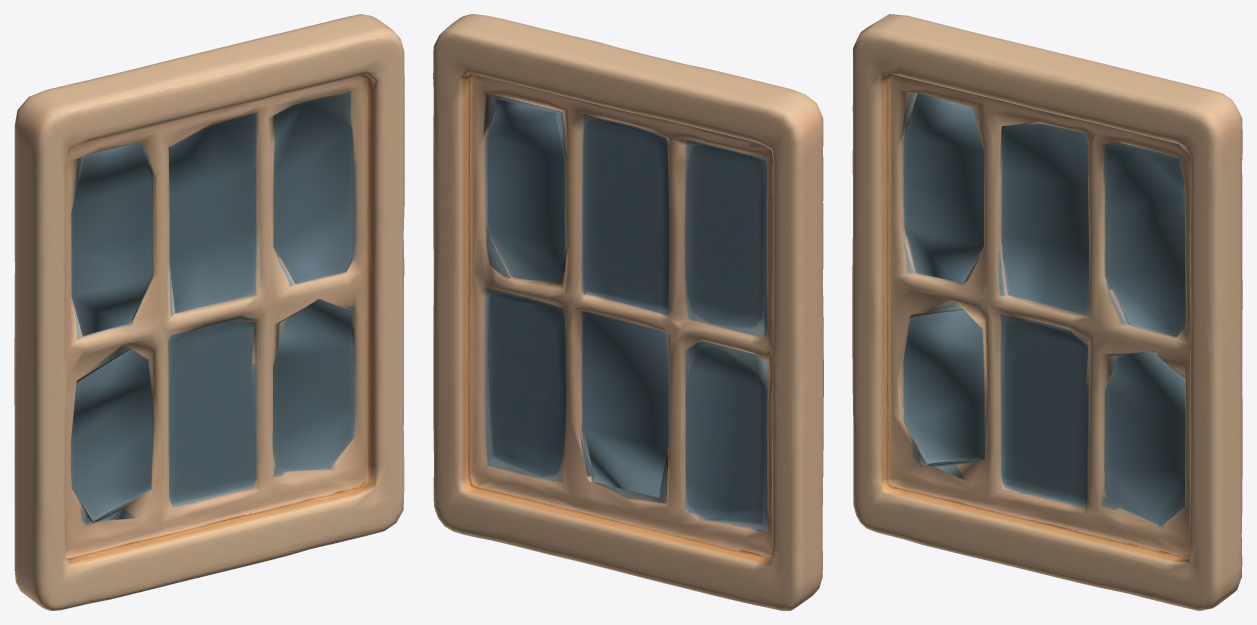
Rendered from house_mod_window_normal_glassver.glb.
The picture shows the model from 3 angles, left to right: view 1: azimuth 30°, elevation 25°; view 2: azimuth 150°, elevation 25°; view 3: azimuth 330°, elevation 25°; orthographic projection.
Size of the model in its own units: 1.53 by 2 by 0.2032.
1 material, 1 textured.
